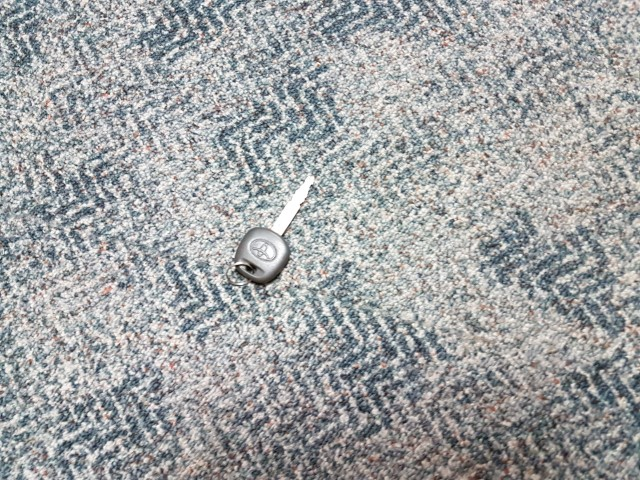key: (234, 172, 315, 283)
